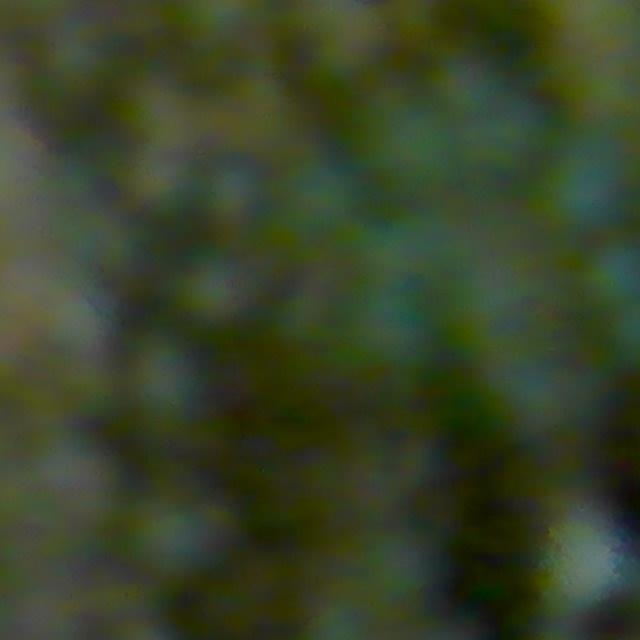SeaGrape: (538, 142, 635, 236), (129, 493, 226, 580), (346, 284, 436, 373), (276, 155, 361, 239), (125, 339, 208, 423), (178, 248, 263, 330), (202, 157, 271, 230), (578, 236, 639, 311)
